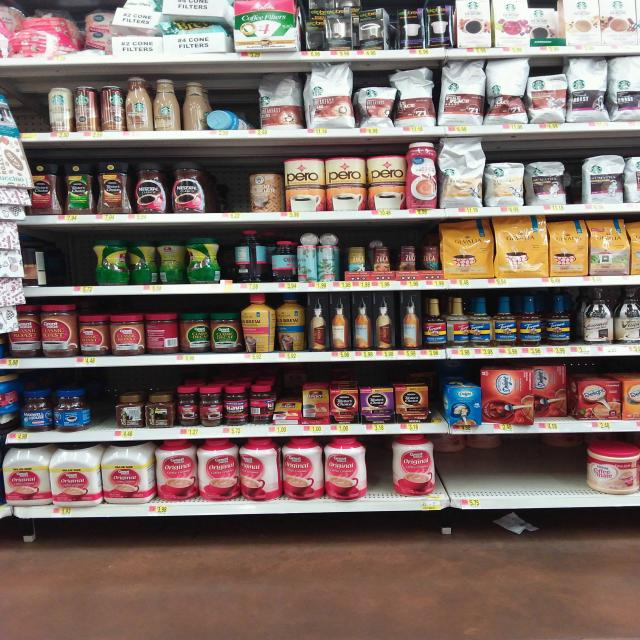empty: (38, 233, 106, 290), (78, 371, 122, 437), (208, 162, 251, 216), (14, 87, 49, 139)
